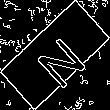N_NW: (24, 23, 86, 87)
